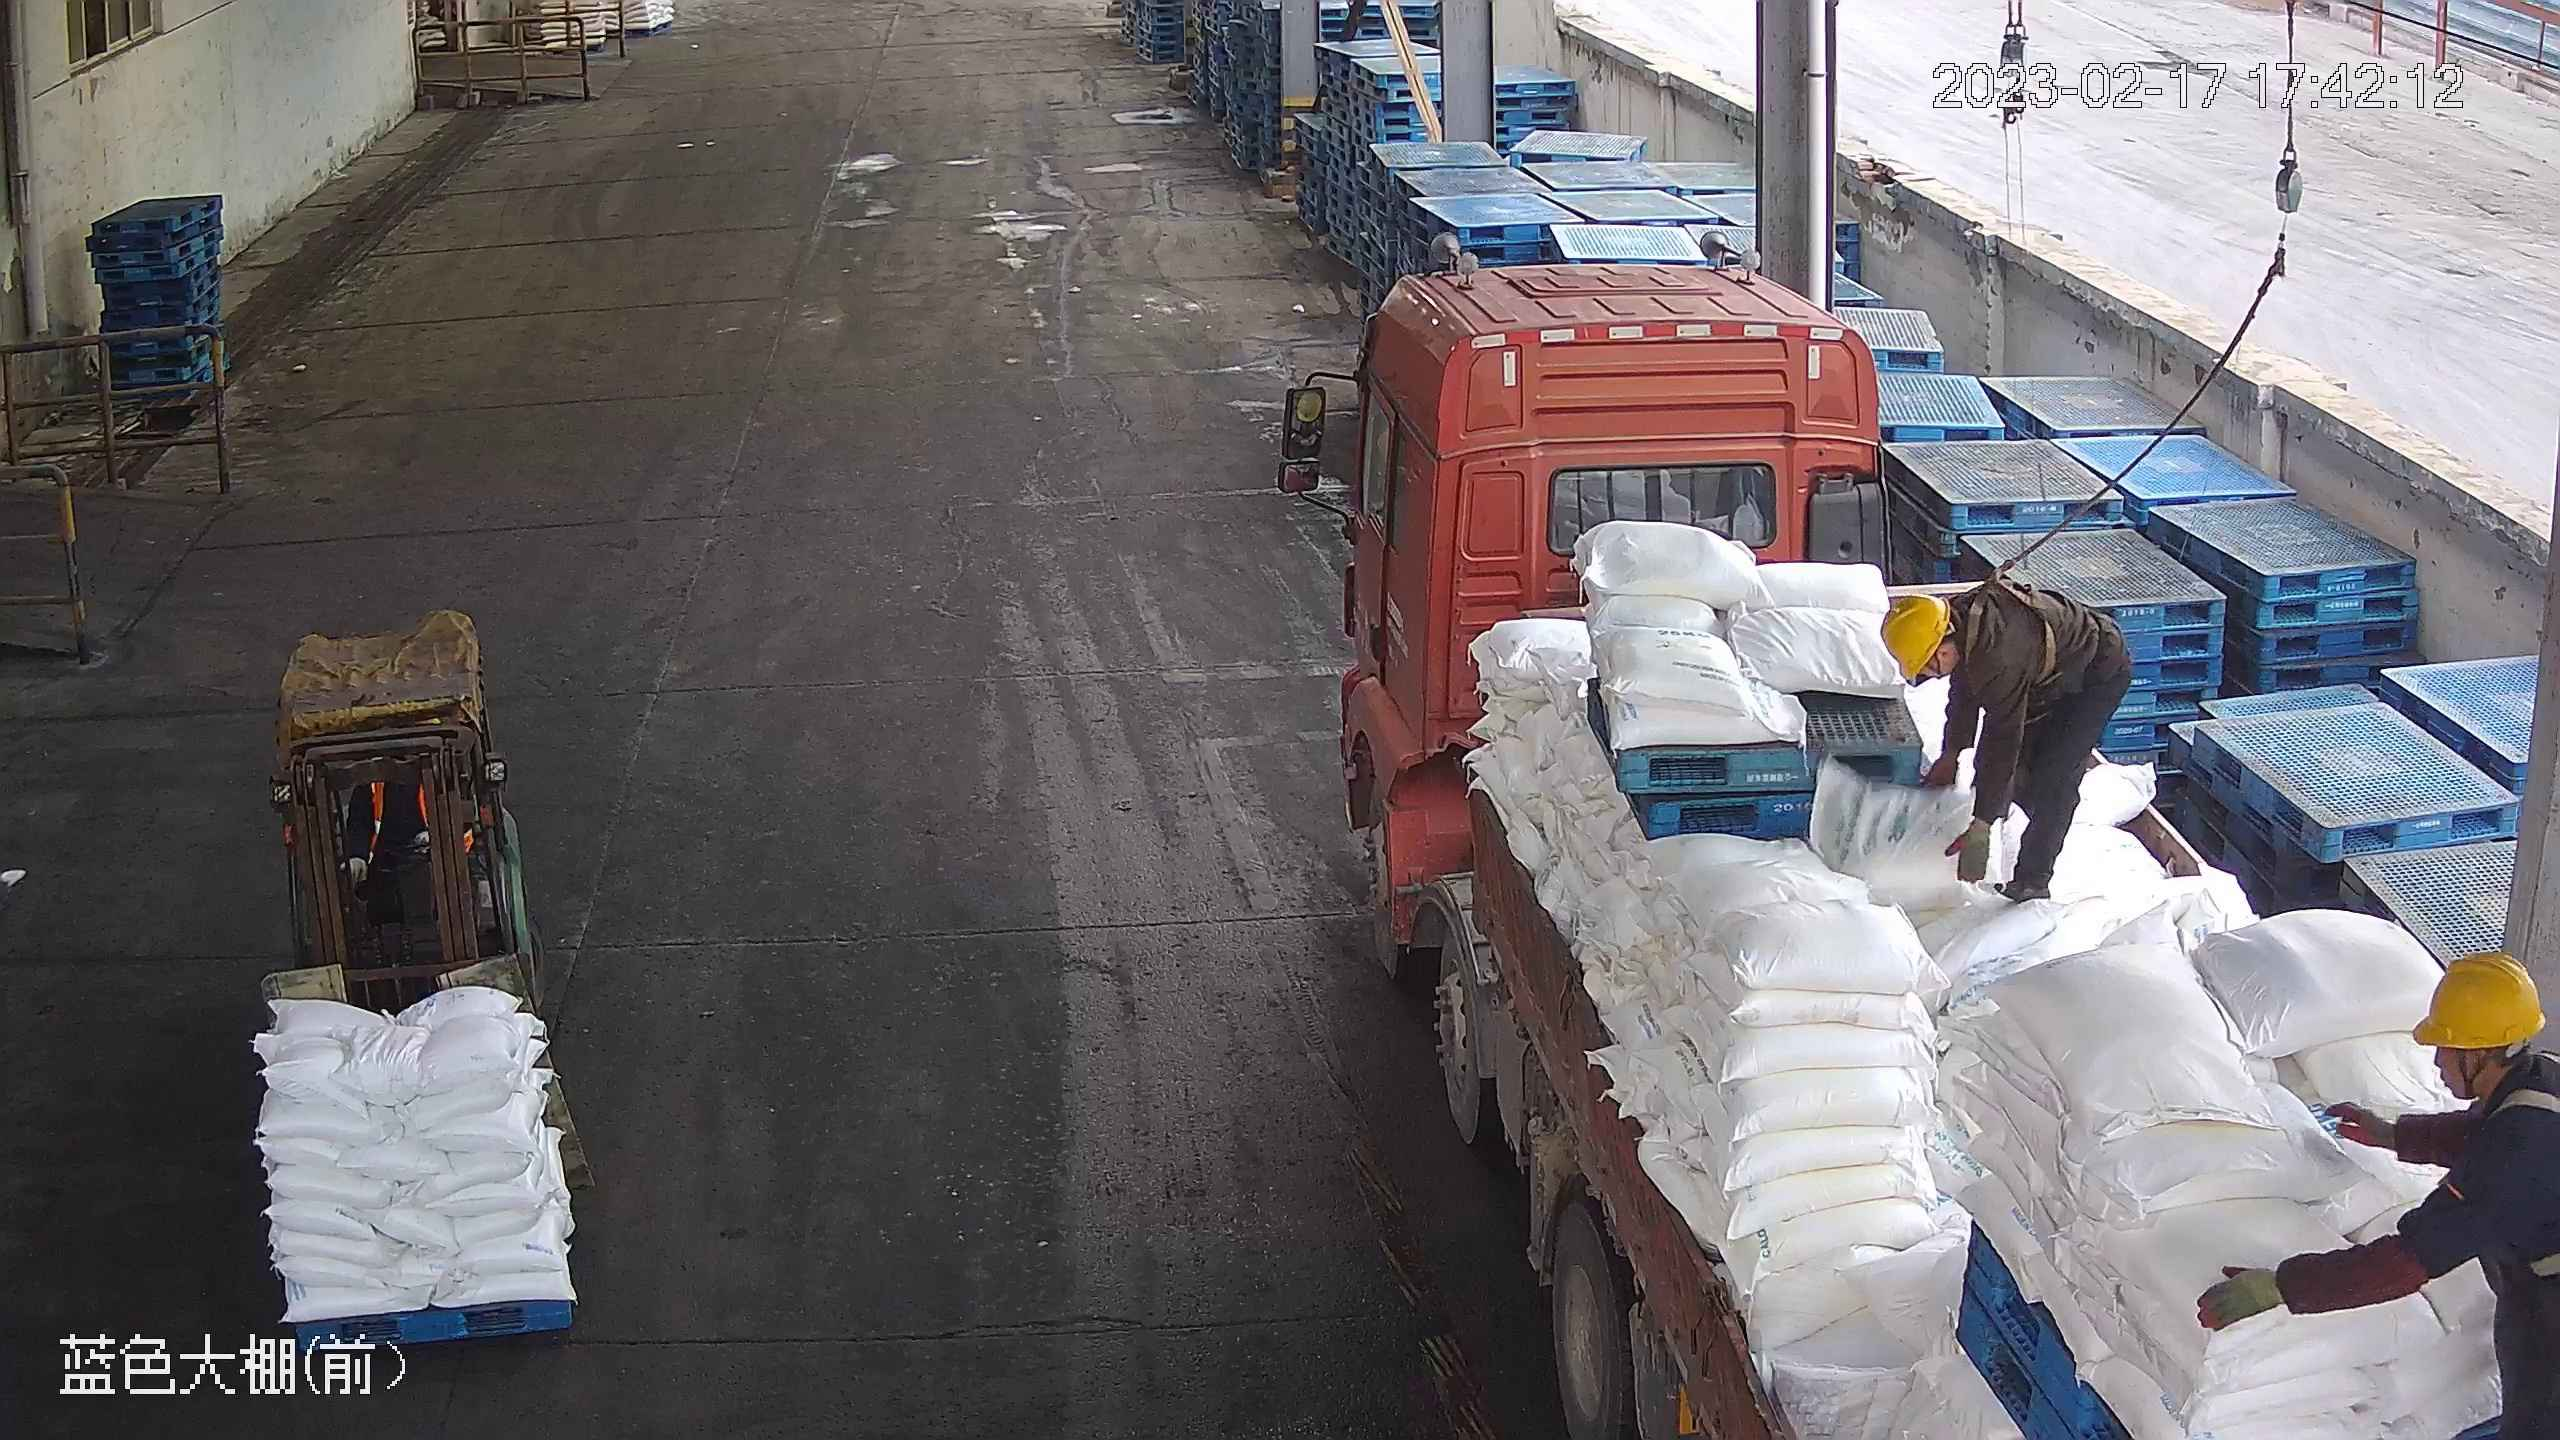belt: (2495, 1061, 2560, 1305), (1957, 552, 2074, 684)
head: (2322, 952, 2560, 1274), (1879, 583, 2057, 735)
helmet: (2412, 949, 2549, 1049), (1883, 586, 1949, 686)
people: (1881, 583, 2137, 896)
truck: (1266, 252, 2560, 1440)
